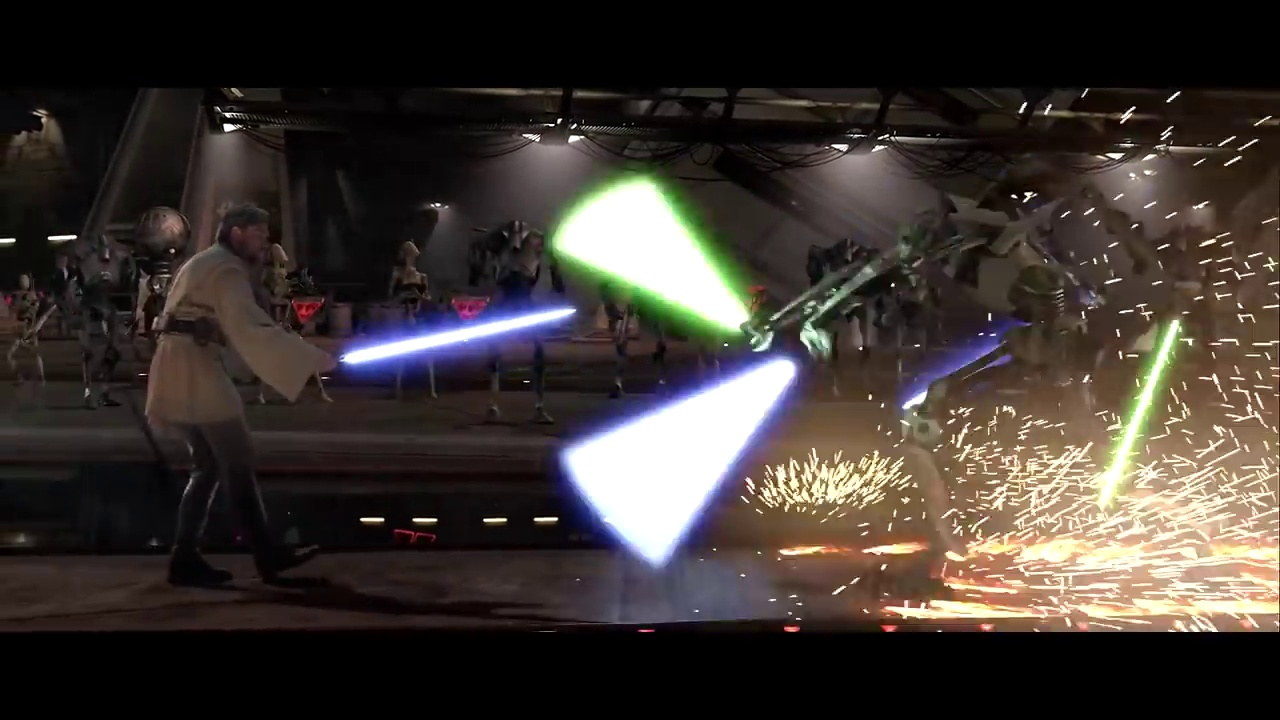lightsaber: (568, 318, 784, 582), (548, 170, 757, 336), (311, 289, 586, 386)
